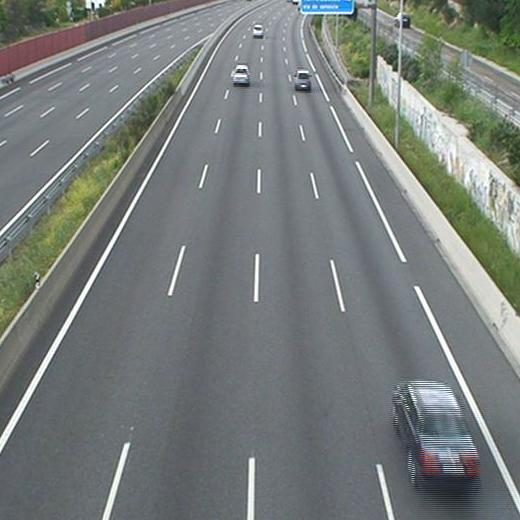car: (392, 379, 481, 495), (294, 71, 312, 93), (231, 66, 250, 86), (252, 24, 265, 38)
